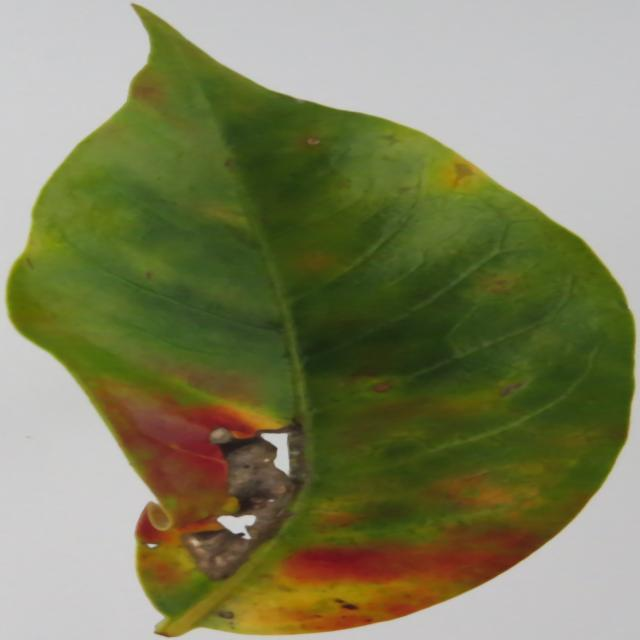DeficienciaNutricional-Fosforo: (7, 8, 633, 636)
